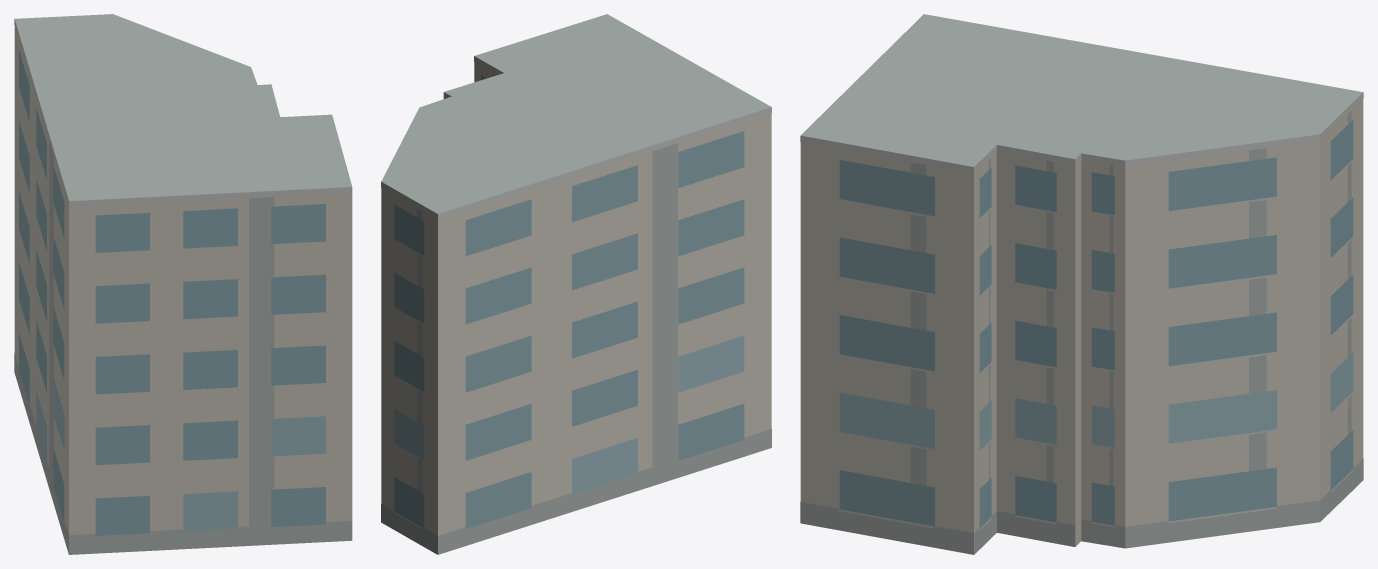
File: survey-upis-32566685.glb
The picture shows the model from 3 angles, left to right: view 1: azimuth 30°, elevation 25°; view 2: azimuth 150°, elevation 25°; view 3: azimuth 270°, elevation 25°; orthographic projection. The views are drawn at different scales.
Parts seen in each view (by area): view 1: survey-upis-32566685.tmp; view 2: survey-upis-32566685.tmp; view 3: survey-upis-32566685.tmp.
Boxes of the visible parts, left/top/right/bottom form: survey-upis-32566685.tmp: left=14, top=14, right=352, bottom=554; survey-upis-32566685.tmp: left=381, top=14, right=771, bottom=554; survey-upis-32566685.tmp: left=800, top=14, right=1363, bottom=554.
Size of the model in its own units: 11.86 by 14 by 18.43.
